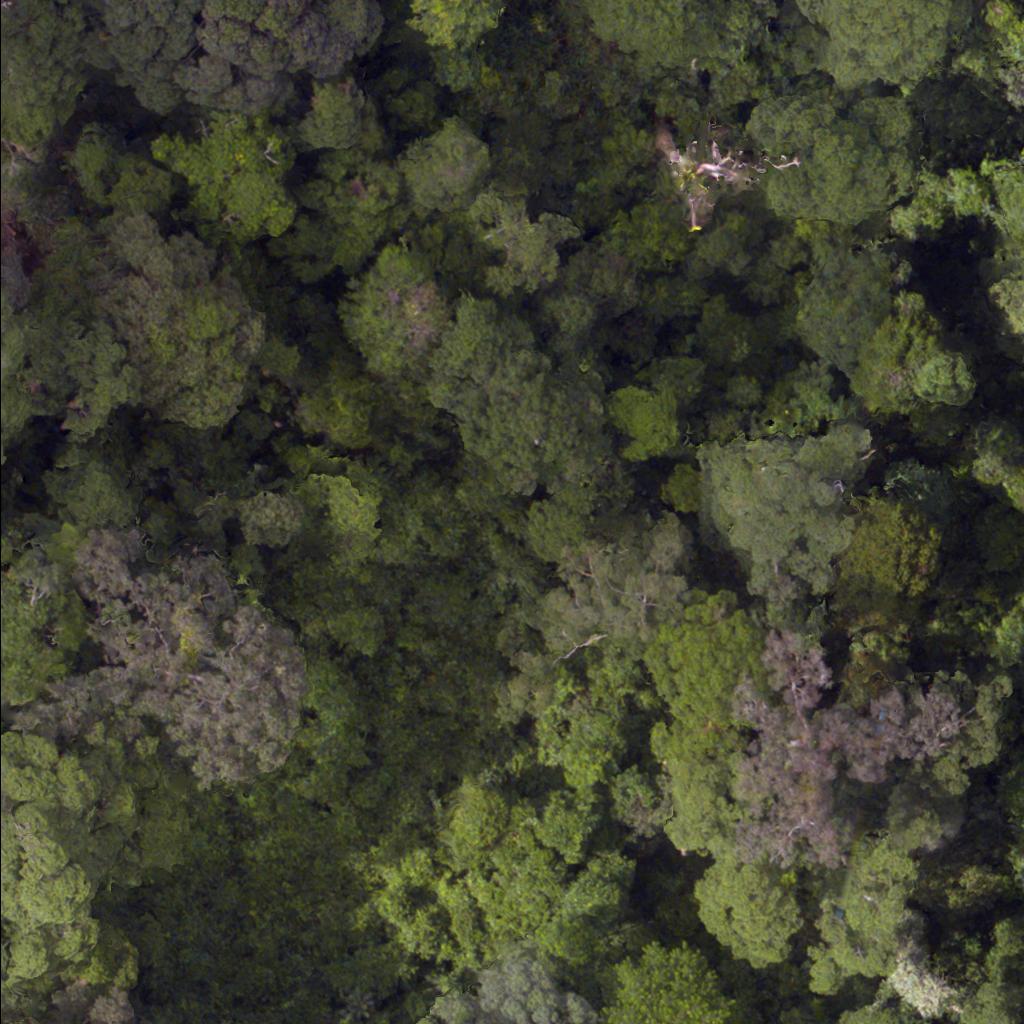crown: (25, 533, 307, 778), (187, 0, 374, 110), (159, 115, 289, 240), (81, 0, 204, 116), (428, 954, 593, 1023), (603, 950, 727, 1023), (0, 0, 78, 111), (306, 87, 374, 144), (416, 0, 495, 43)
